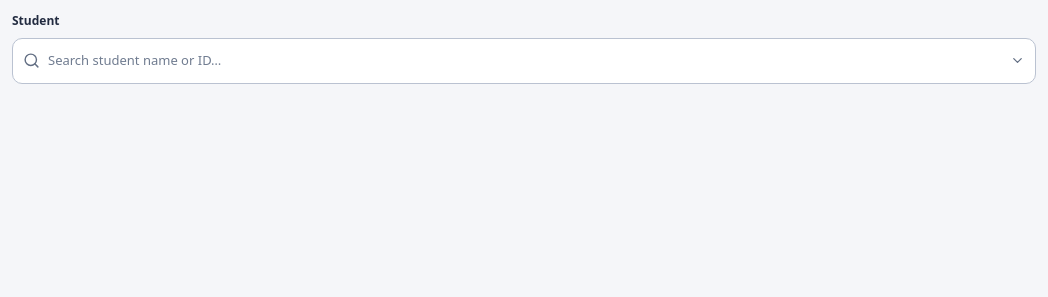
Scenario: searches with the keyboard and preserves selected metadata across a new query
The image size is (1048, 297).
Click the dropdown labelled "Student" at (525, 61), box [48, 39, 1002, 82]
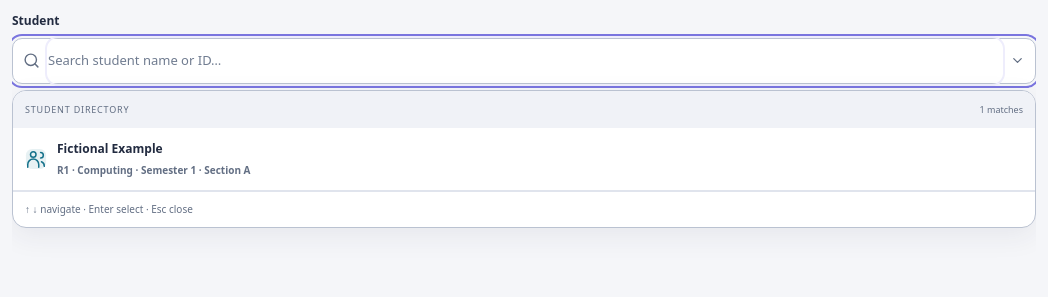
Check: the option "Fictional Example R1 · Computing · Semester 1 · Section A" is shown, box [13, 128, 1035, 191]
Press Arrowdown Enter
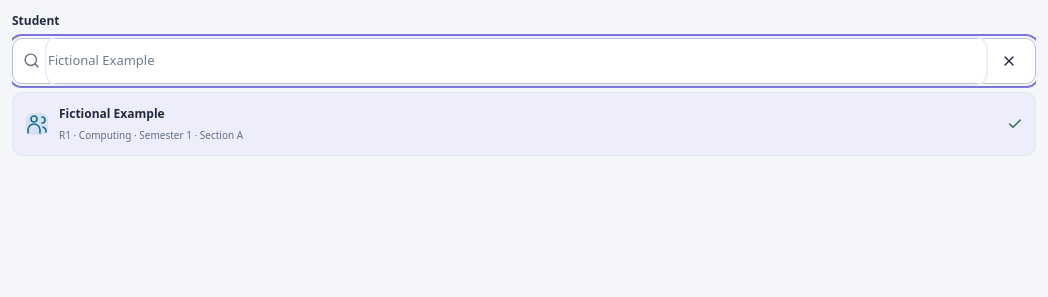
Check: the text "Fictional Example" is shown, box [59, 104, 165, 122]
Check: the dropdown labelled "Student" is collapsed
Type "Missing" into the dropdown labelled "Student" at (516, 61), box [48, 39, 985, 82]
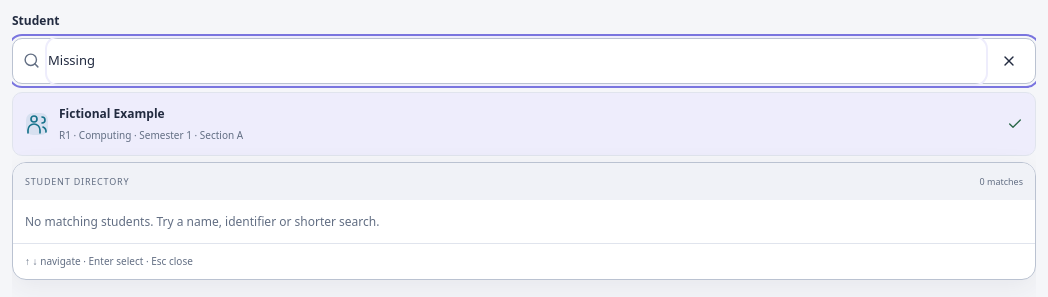
Check: the text "Fictional Example" is shown, box [59, 104, 165, 122]
Check: the text "No matching students. Try a name, identifier or shorter search." is shown, box [25, 213, 380, 230]
Press Escape
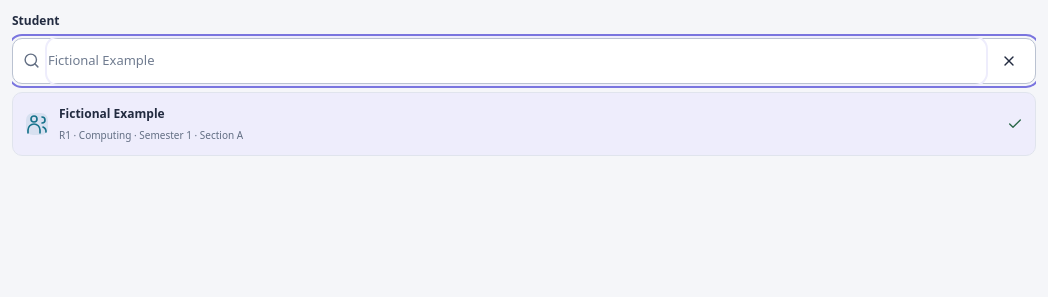
Check: the dropdown labelled "Student" is collapsed, box [48, 39, 985, 82]
